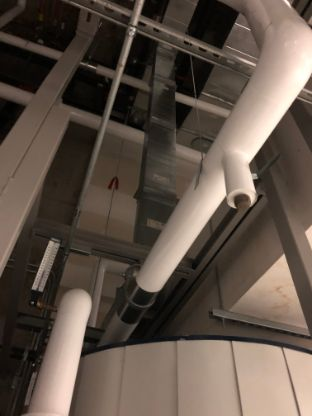Duct: (130, 39, 184, 254), (186, 10, 261, 144)
